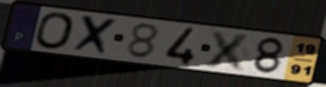4: (162, 26, 198, 66)
8: (251, 35, 288, 75), (124, 22, 161, 60)
O: (34, 11, 77, 51)
X: (203, 29, 256, 74), (69, 13, 120, 58)
